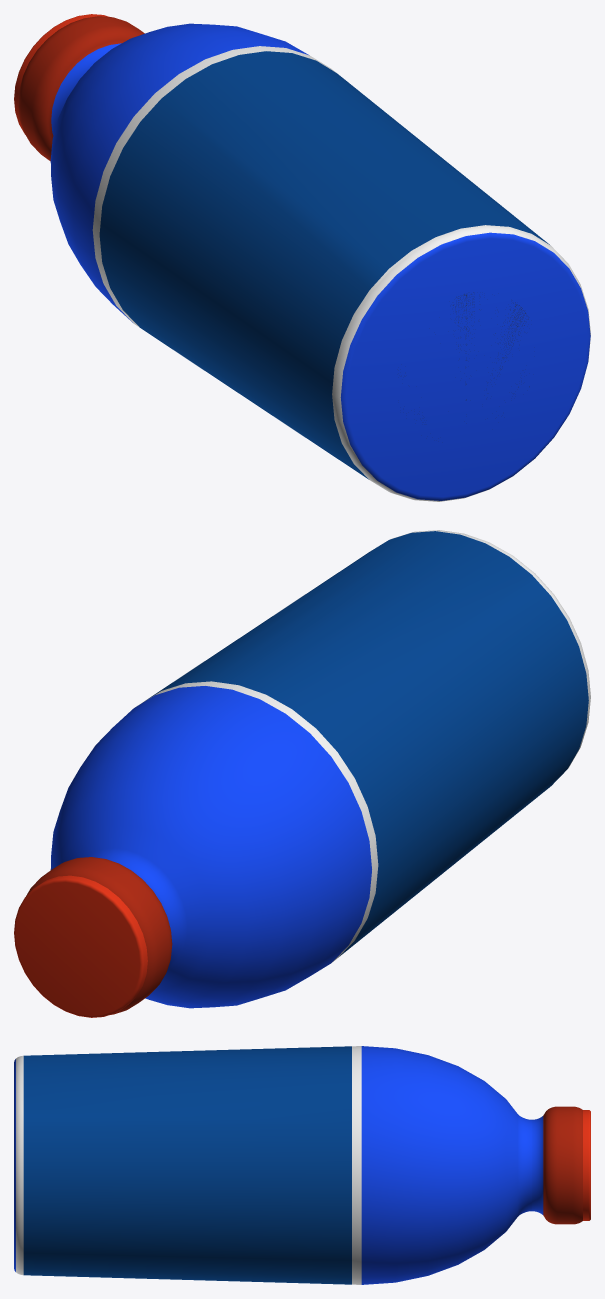
File: drinks.fbx
3 renders of one model, top to bottom at view 1: azimuth 30°, elevation 25°; view 2: azimuth 150°, elevation 25°; view 3: azimuth 270°, elevation 25°, orthographic. The views are drawn at different scales.
Parts seen in each view (by area): view 1: Energy, Cola; view 2: Energy, Cola; view 3: Energy, Cola.
Boxes of the visible parts, x1,y1,x2,y2 form: Energy: (18,16,590,501); Cola: (14,14,529,400); Energy: (26,530,590,1014); Cola: (14,875,147,1017); Energy: (14,1046,582,1284); Cola: (583,1110,590,1220).
Bounding box in the file's own units: 40 × 40 × 96.49.
1 material, 1 textured.
